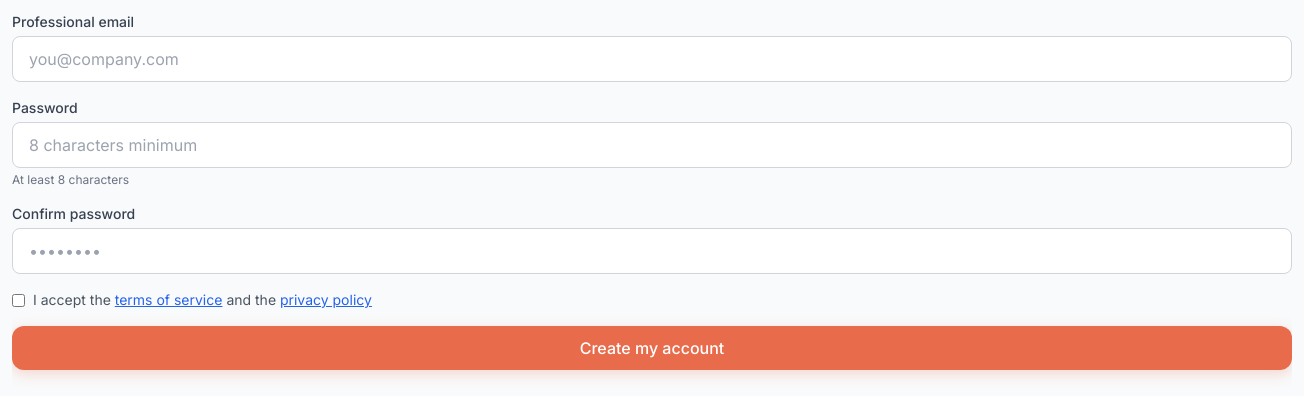
Scenario: RegisterForm › shows "Creating..." during submission
Type "john@law.com" into the field with placeholder "you@company.com" at (652, 59), box [12, 36, 1292, 82]
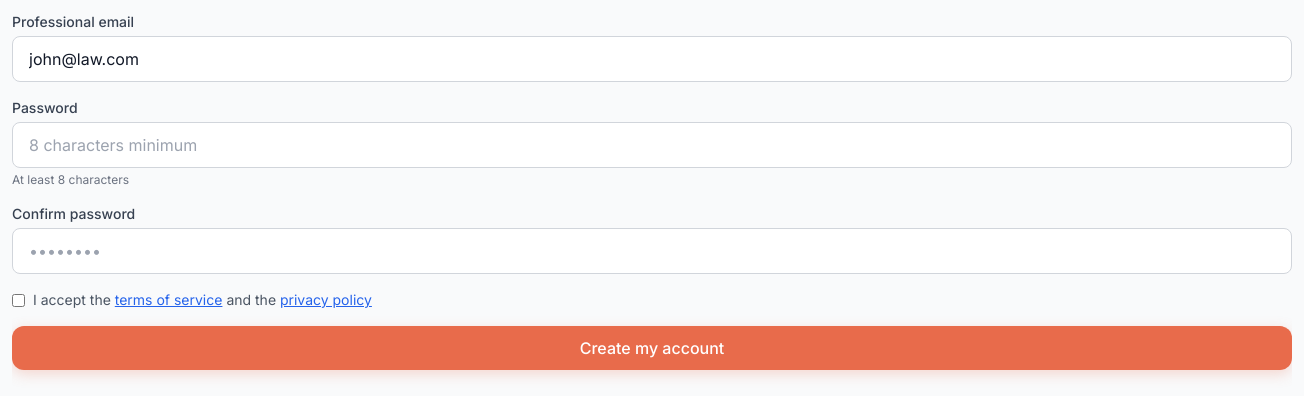
Type "password123" into the password field with placeholder "8 characters minimum" at (652, 145), box [12, 122, 1292, 168]
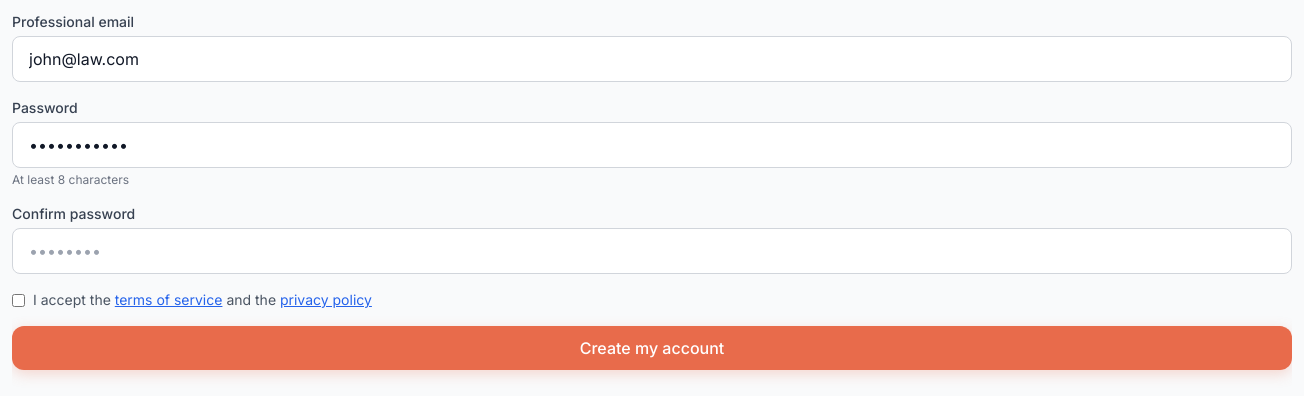
Type "password123" into the password field with placeholder "••••••••" at (652, 251), box [12, 228, 1292, 274]
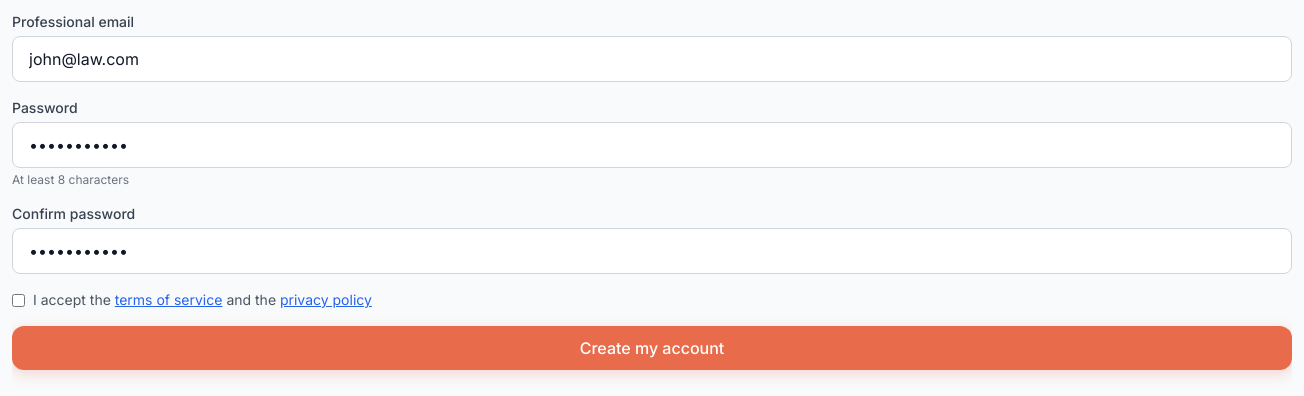
Click the checkbox at (18, 300), box [12, 294, 25, 307]
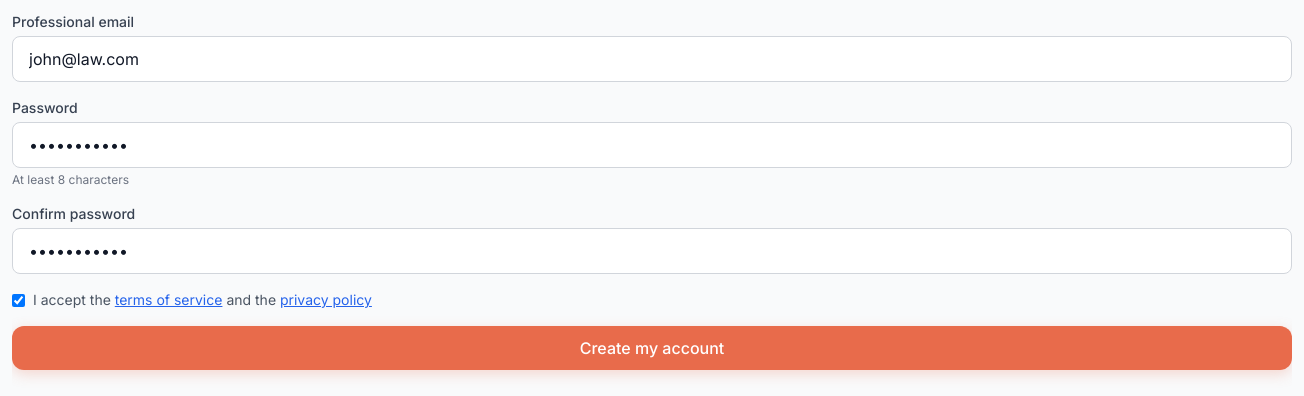
Submit the form from the button "Create my account", box [12, 326, 1292, 370]
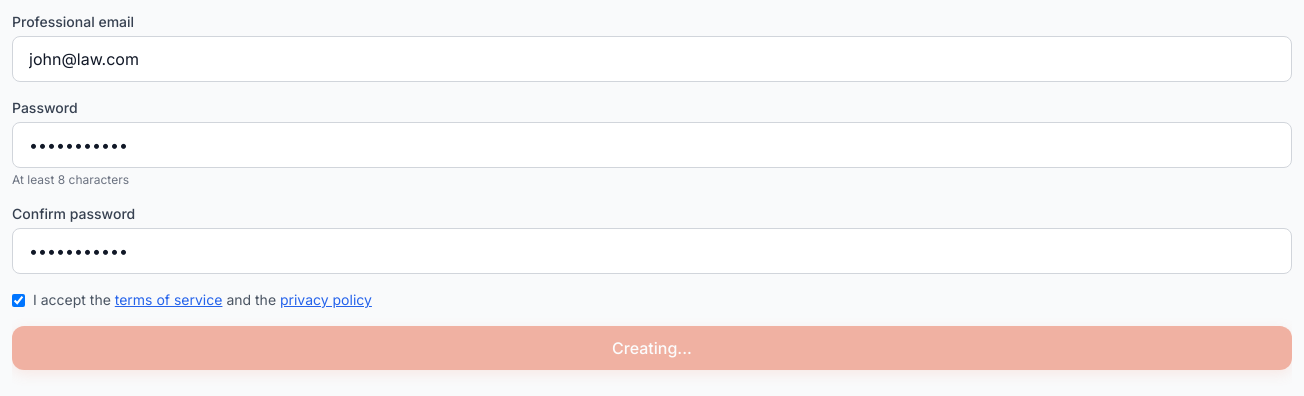
expect the button "Creating..." is shown: met, box [12, 326, 1292, 370]
